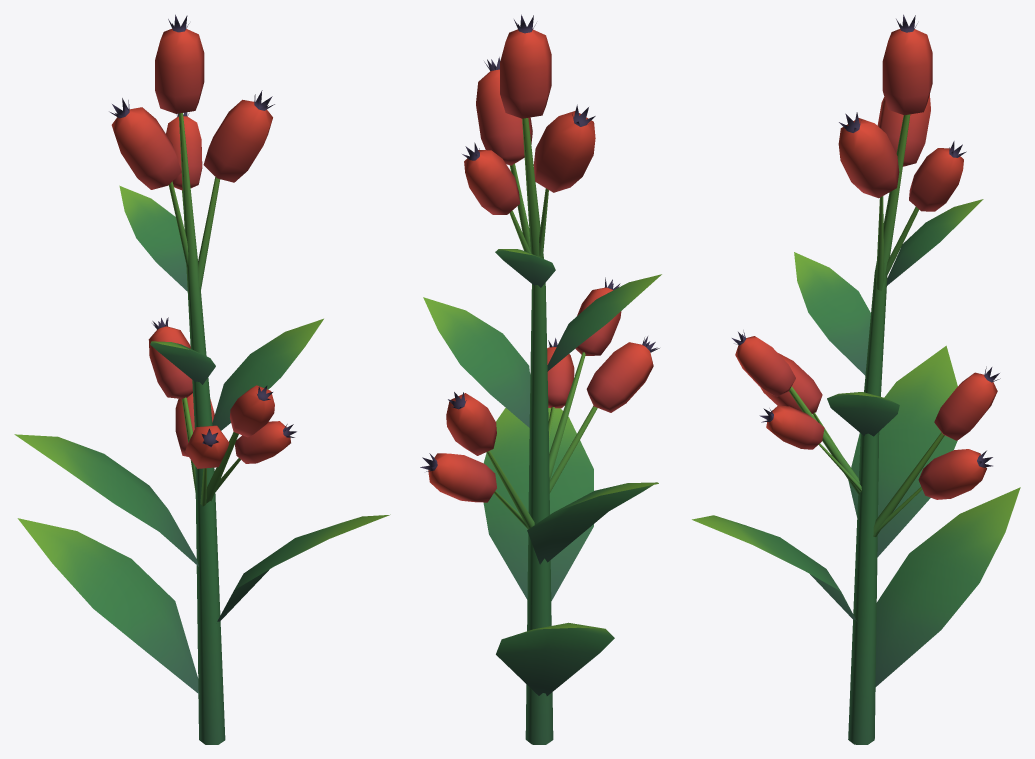
Rendered from flower15.glb.
The picture shows the model from 3 angles, left to right: view 1: azimuth 30°, elevation 25°; view 2: azimuth 150°, elevation 25°; view 3: azimuth 270°, elevation 25°; orthographic projection. The views are drawn at different scales.
Parts seen in each view (by area): view 1: Flower.021; view 2: Flower.021; view 3: Flower.021.
Boxes of the visible parts, x1,y1,x2,y2 form: Flower.021: (14,14,390,744); Flower.021: (420,14,661,744); Flower.021: (692,14,1020,744).
Size of the model in its own units: 1.65 by 4.17 by 1.74.
Materials: 1 (1 with a texture image).
